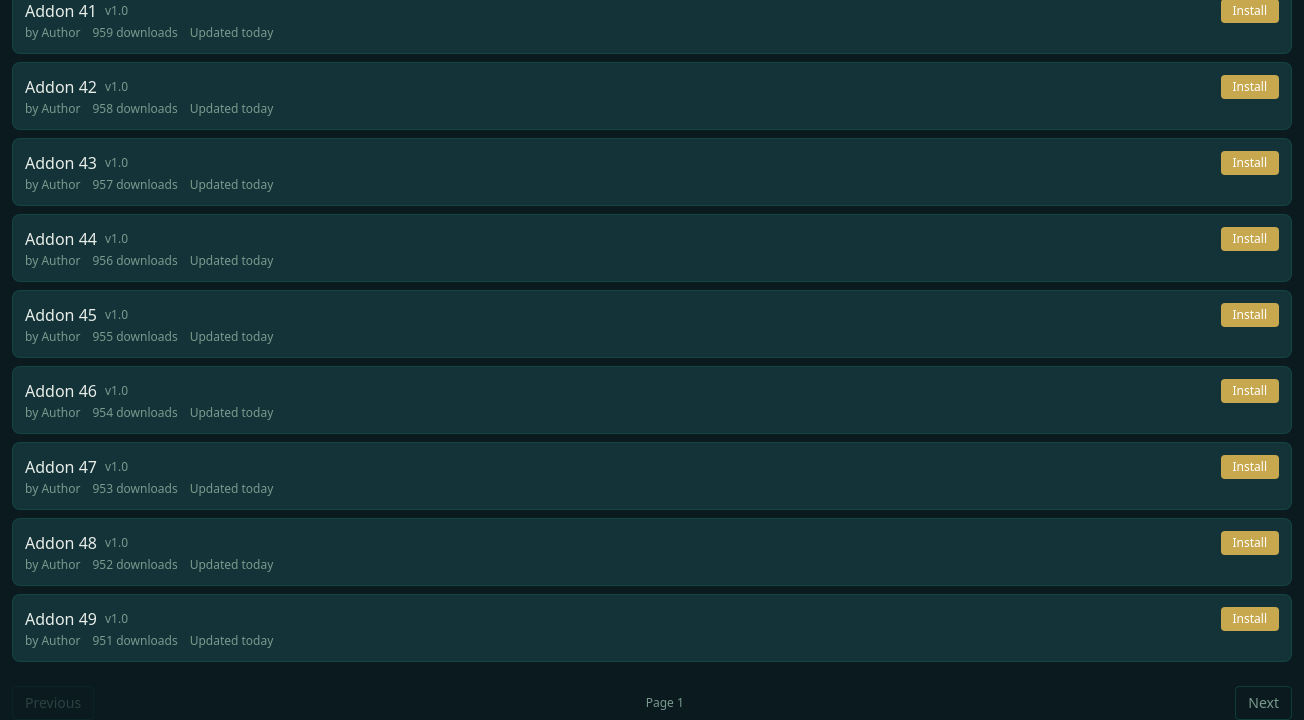
Scenario: BrowsePage pagination › disables 'Next' on a short last page and keeps 'Previous' usable
The image size is (1304, 720).
(page scrolled)
Click the button "Next". click: click(1264, 703)
box: [1235,686,1292,719]
(page scrolled)
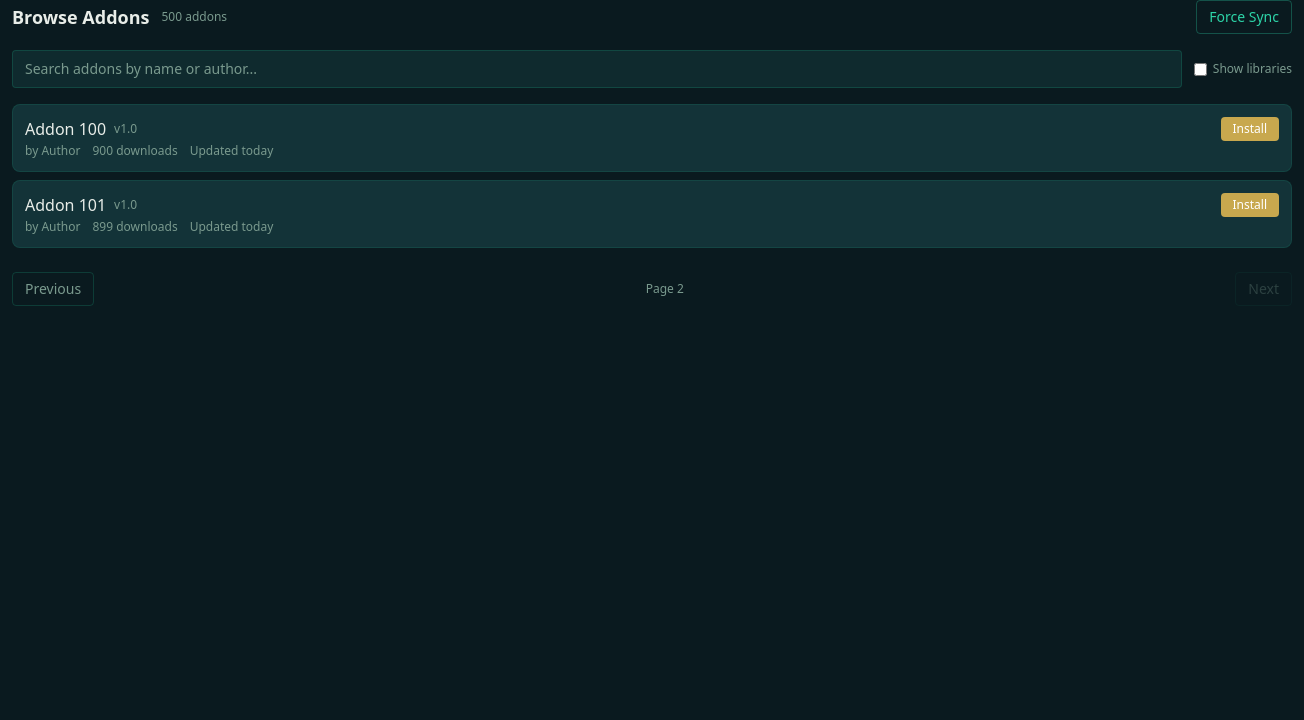
Now the text "Addon 100" is shown, box [25,117,106,141]
Now the text "Page 2" is shown, box [646,281,684,297]
Now the button "Next" is disabled, box [1235,272,1292,306]
Click the button "Previous". click: click(53, 289)
box: [12,272,94,306]
(page scrolled)
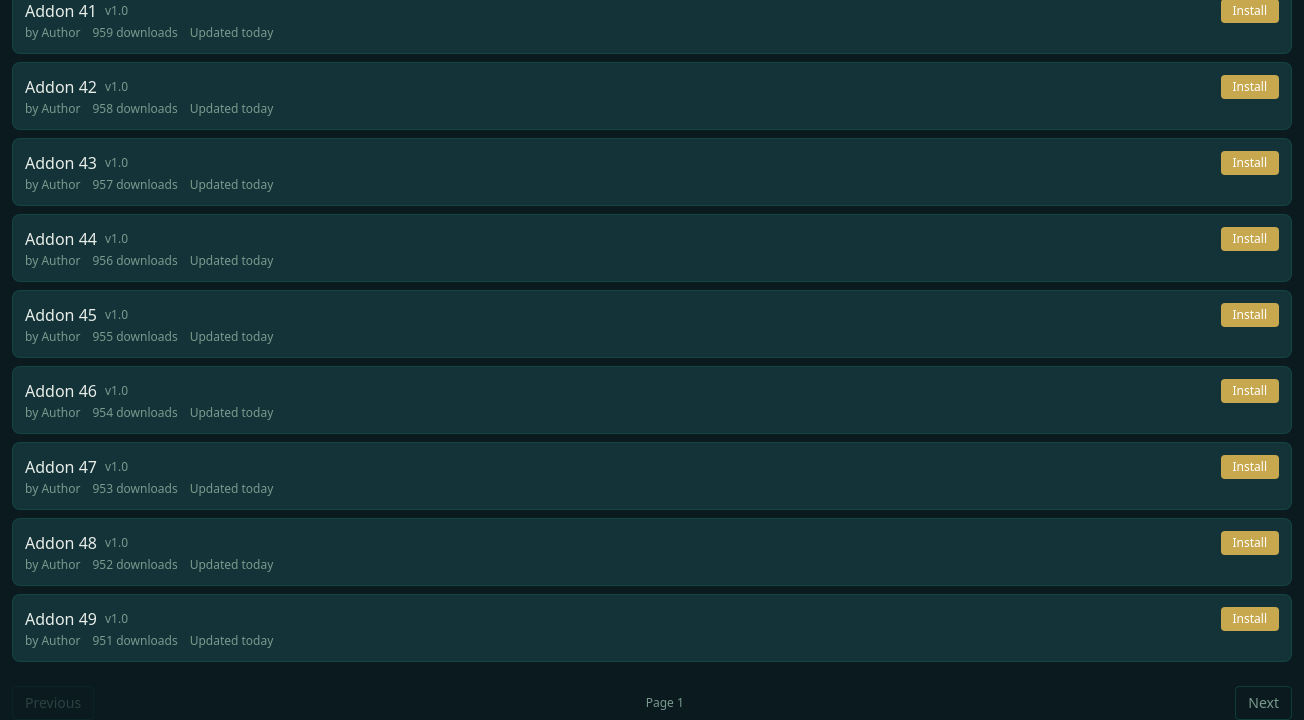
Now the text "Page 1" is shown, box [646,695,684,711]
